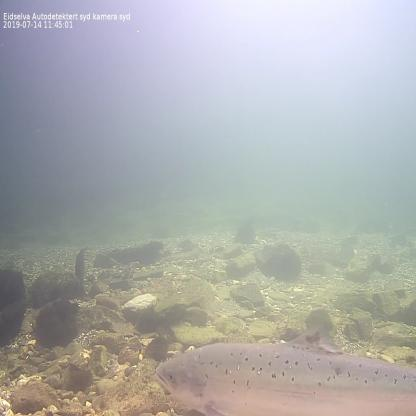salmon: (151, 319, 416, 415)
